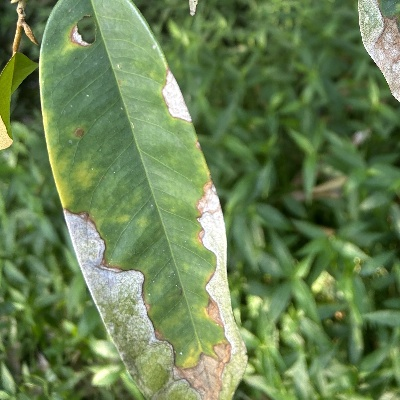Leaf_Colletotrichum: (37, 0, 250, 400)
